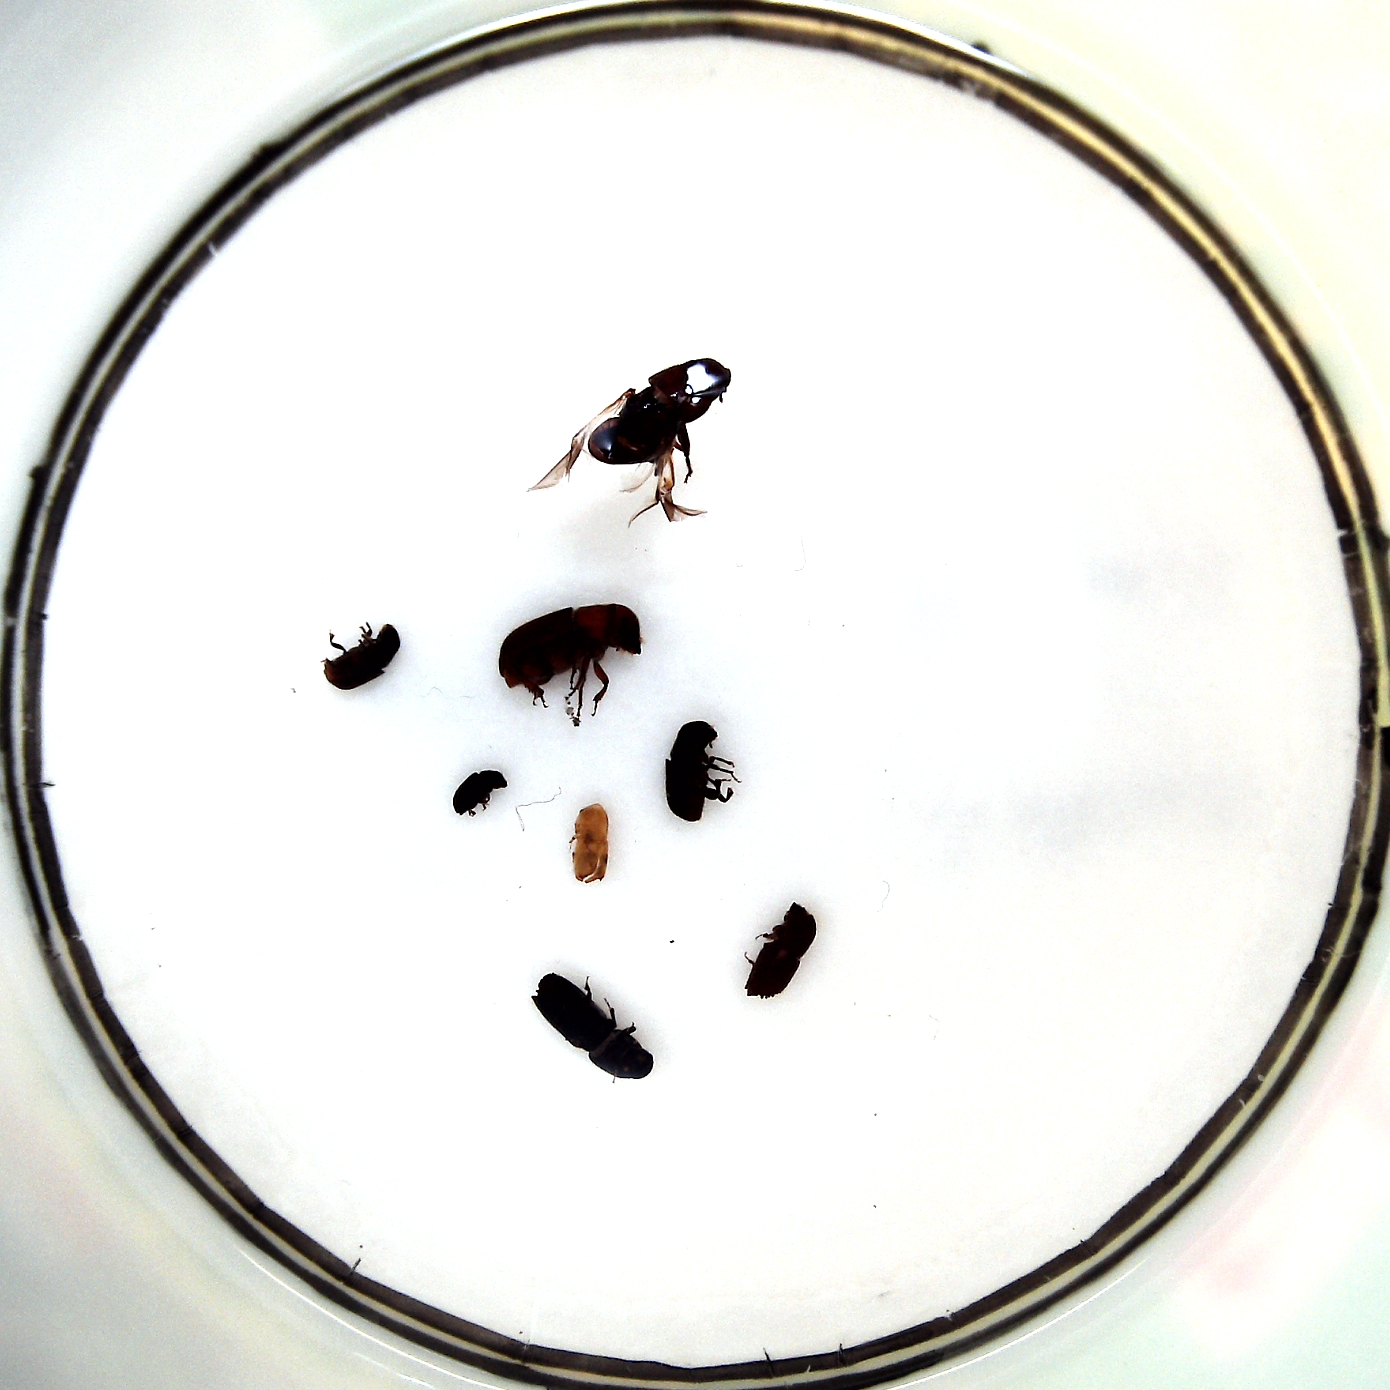Boerner: (533, 970, 654, 1082)
Leconte: (586, 358, 733, 465), (499, 605, 644, 694)
acuminatus: (452, 769, 508, 816)
armandi: (663, 718, 720, 821), (323, 622, 402, 692)
coleoptera: (569, 802, 608, 885)
linnaeus: (743, 902, 817, 1002)
